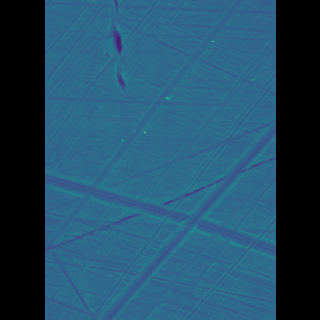Loch: (113, 115, 242, 320), (120, 0, 137, 93)
